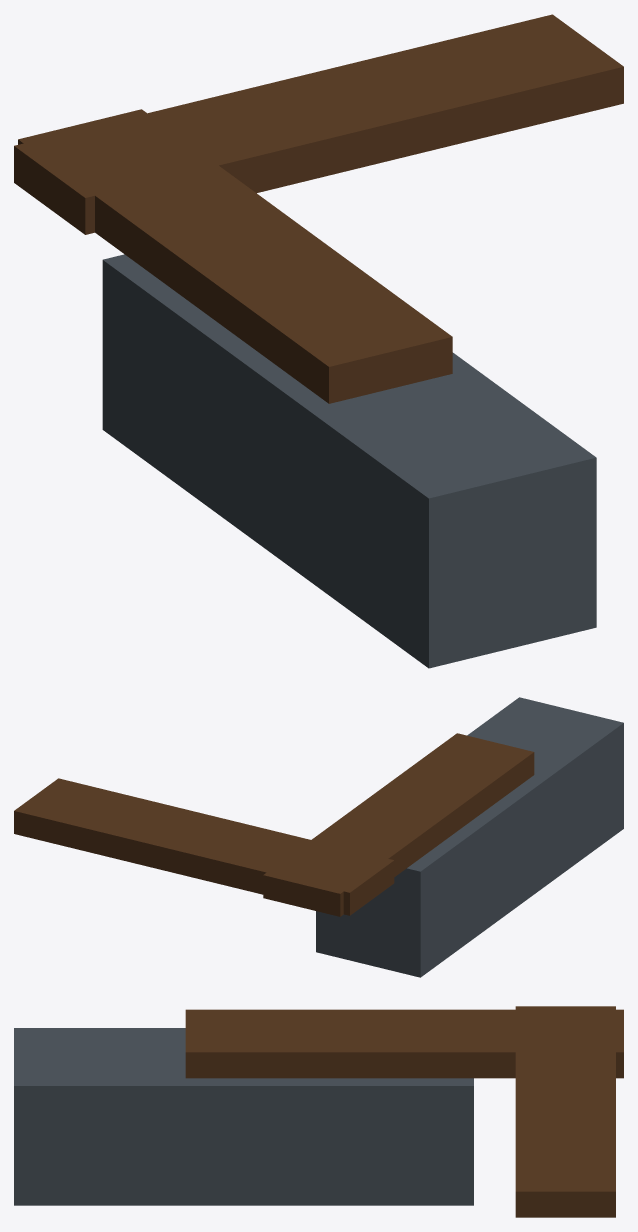
File: cover.sandbag_corner.glb
3 views of the same model, one above another, from view 1: azimuth 30°, elevation 25°; view 2: azimuth 150°, elevation 25°; view 3: azimuth 270°, elevation 25° (orthographic). The views are drawn at different scales.
Parts seen in each view (by area): view 1: corner_leg, bag_cap_a, bag_cap_b; view 2: corner_leg, bag_cap_a, bag_cap_b; view 3: corner_leg, bag_cap_b, bag_cap_a.
Boxes of the visible parts, x1,y1,x2,y2 form: corner_leg: (102,254,596,668); bag_cap_a: (14,14,623,234); bag_cap_b: (18,109,452,403); corner_leg: (316,697,623,977); bag_cap_a: (14,778,394,915); bag_cap_b: (263,733,534,916); corner_leg: (14,1028,473,1205); bag_cap_b: (185,1009,623,1078); bag_cap_a: (515,1006,615,1217).
Size of what is drawn, in the model's own units: 3.12 by 1.12 by 4.25.
